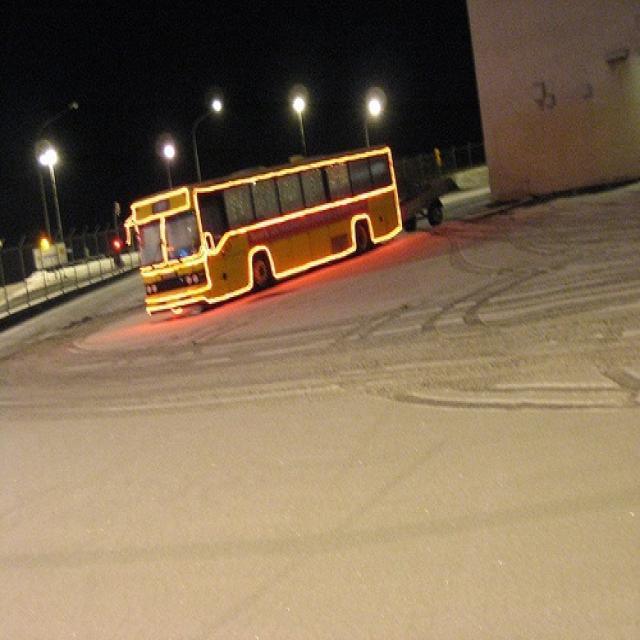bus: (123, 144, 401, 318)
